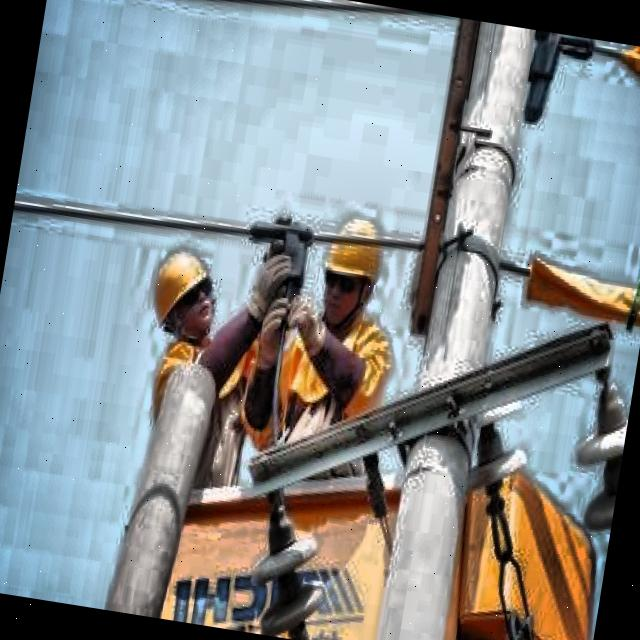helmet: (310, 200, 396, 335), (138, 238, 234, 353)
